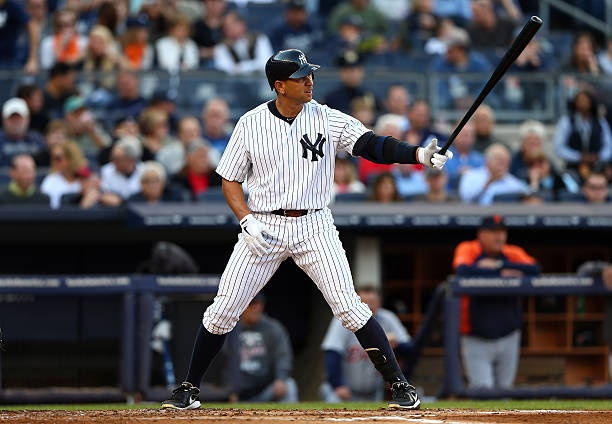bita: (433, 13, 545, 160)
